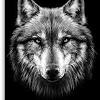Lobo: (12, 1, 90, 90)
